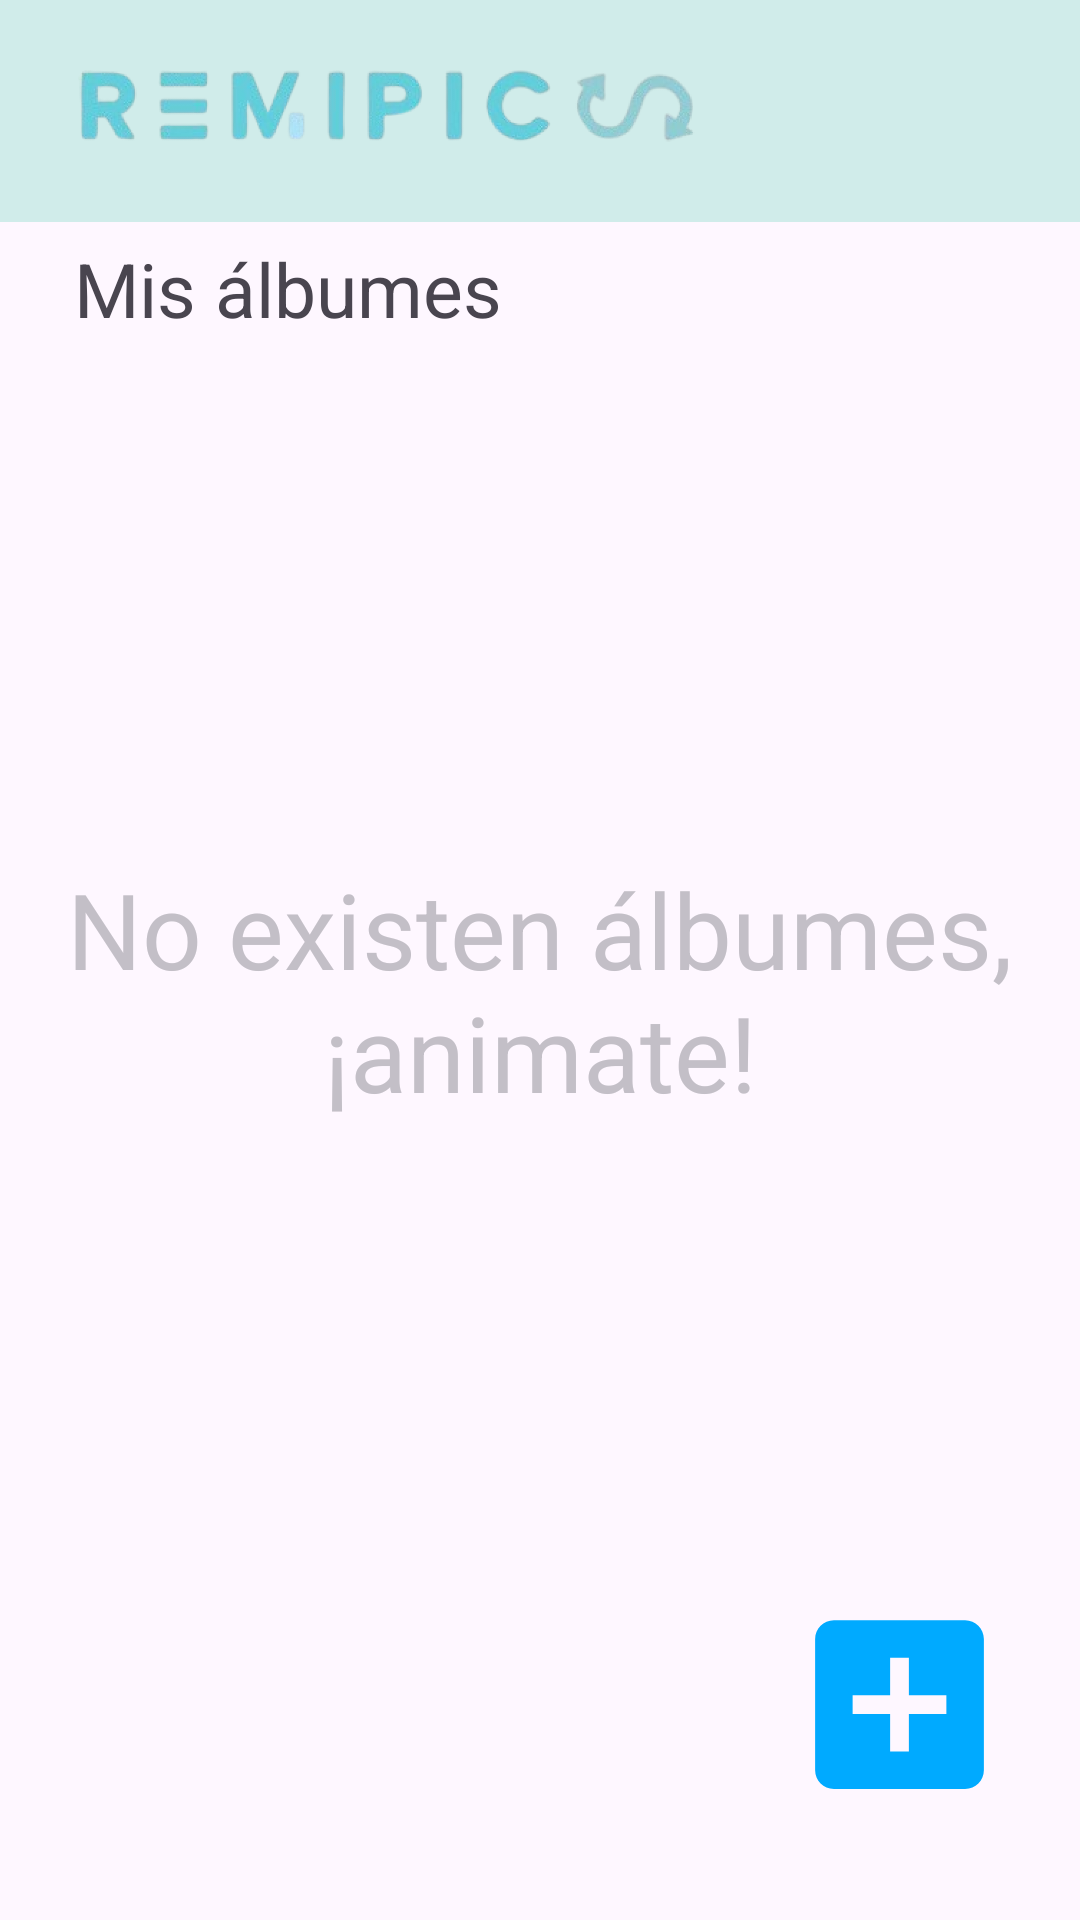

Screen size 1080w x 1920h. Icon name, then its center in pixels as point (x, y):
crear album: point (899, 1704)
